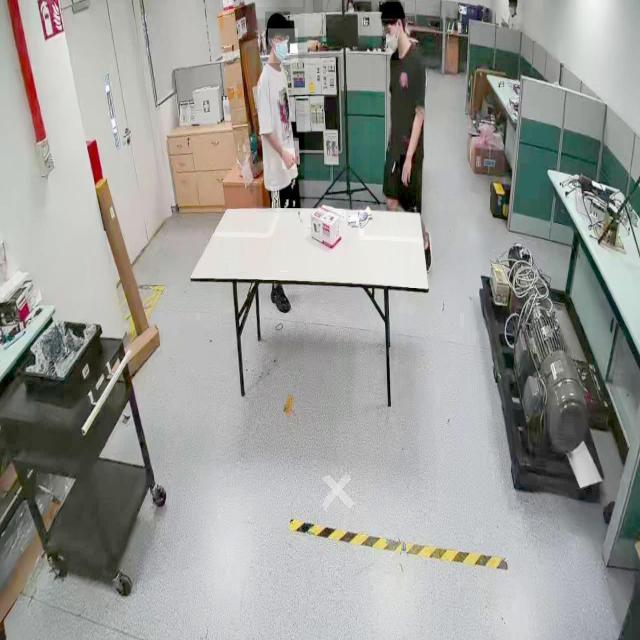face_mask: (268, 28, 298, 64), (382, 20, 400, 61)
hand_noglove: (400, 155, 412, 185), (282, 148, 296, 170)
head_nohelmet: (380, 2, 406, 20), (265, 12, 291, 28)
person: (370, 10, 428, 228), (257, 7, 305, 213)
shoes: (270, 282, 294, 320)
